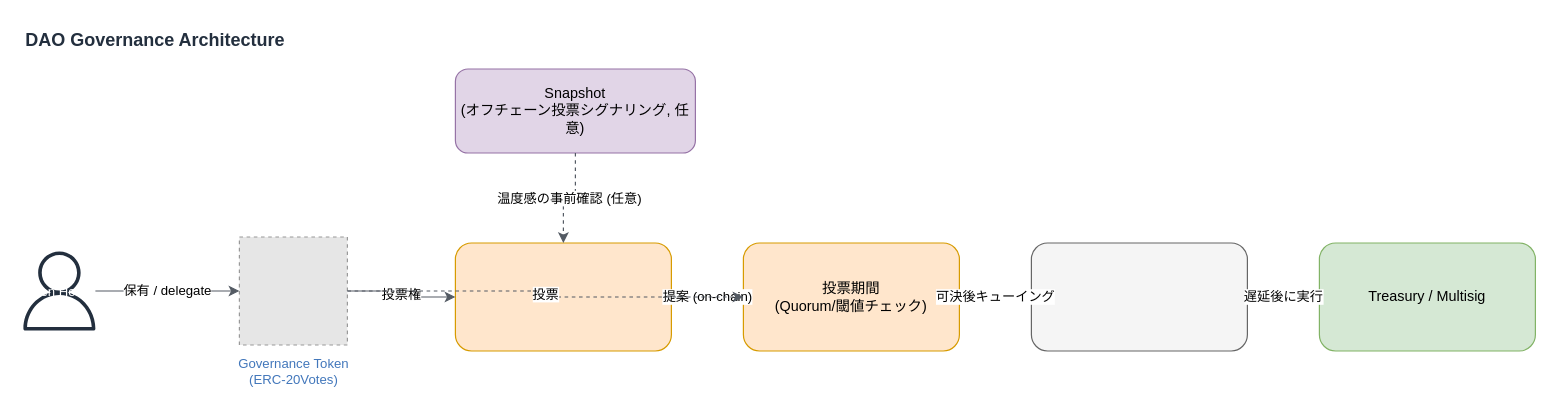
This 1556x408 diagram has some shape labels left out. Grey dashed boxes stand in for pictures. Each missing label, with the centre of its shape:
Proposal (Governor Contract): point (562, 296)
Timelock Controller (実行遅延): point (1138, 296)
